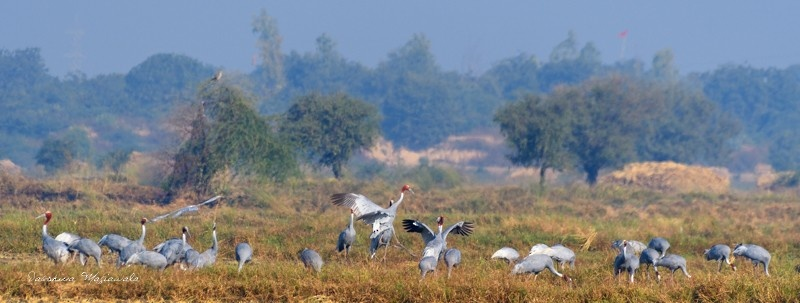crane: (403, 214, 471, 274), (339, 182, 420, 221), (35, 207, 71, 267)
